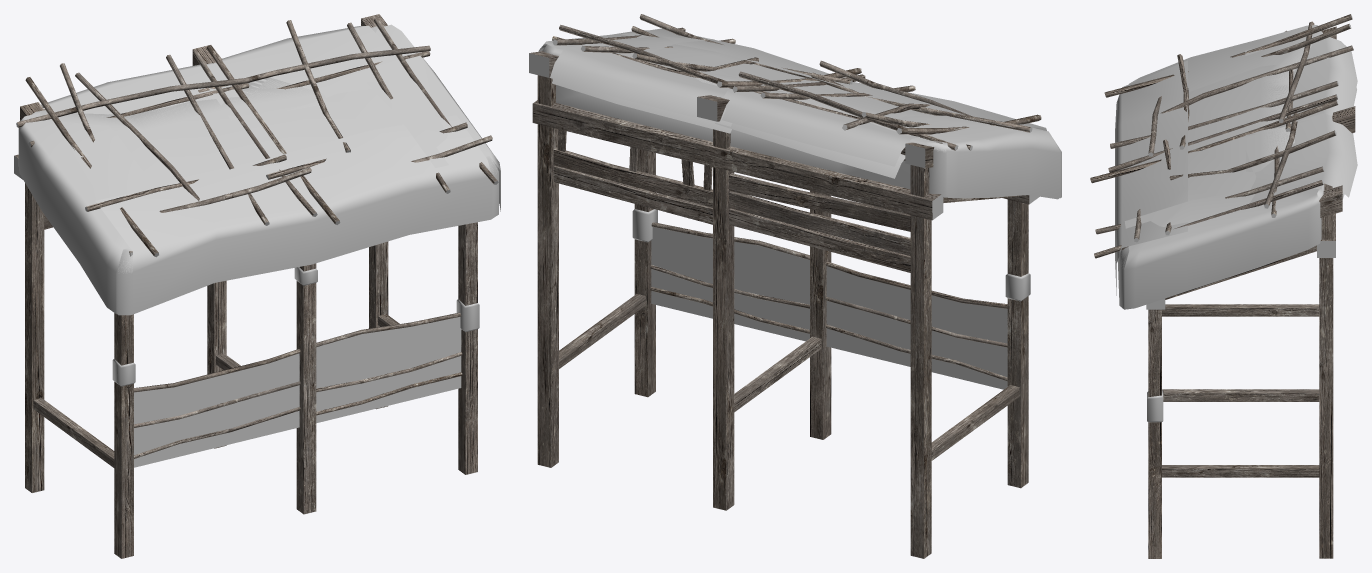
The model's file is Stall1.fbx.
3 renders of one model, left to right at view 1: azimuth 30°, elevation 25°; view 2: azimuth 150°, elevation 25°; view 3: azimuth 270°, elevation 25°, orthographic. The views are drawn at different scales.
Parts seen in each view (by area): view 1: polySurface2547; view 2: polySurface2547; view 3: polySurface2547.
Boxes of the visible parts, x1,y1,x2,y2 form: polySurface2547: (14,14,500,558); polySurface2547: (529,14,1061,558); polySurface2547: (1090,14,1357,558).
Bounding box in the file's own units: 5.74 × 5.65 × 3.51.
